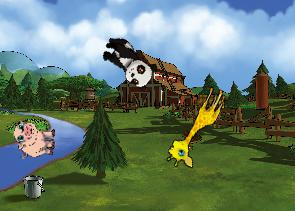giraffe: (162, 79, 229, 173)
panda: (95, 31, 161, 93)
pig: (13, 119, 56, 159)
